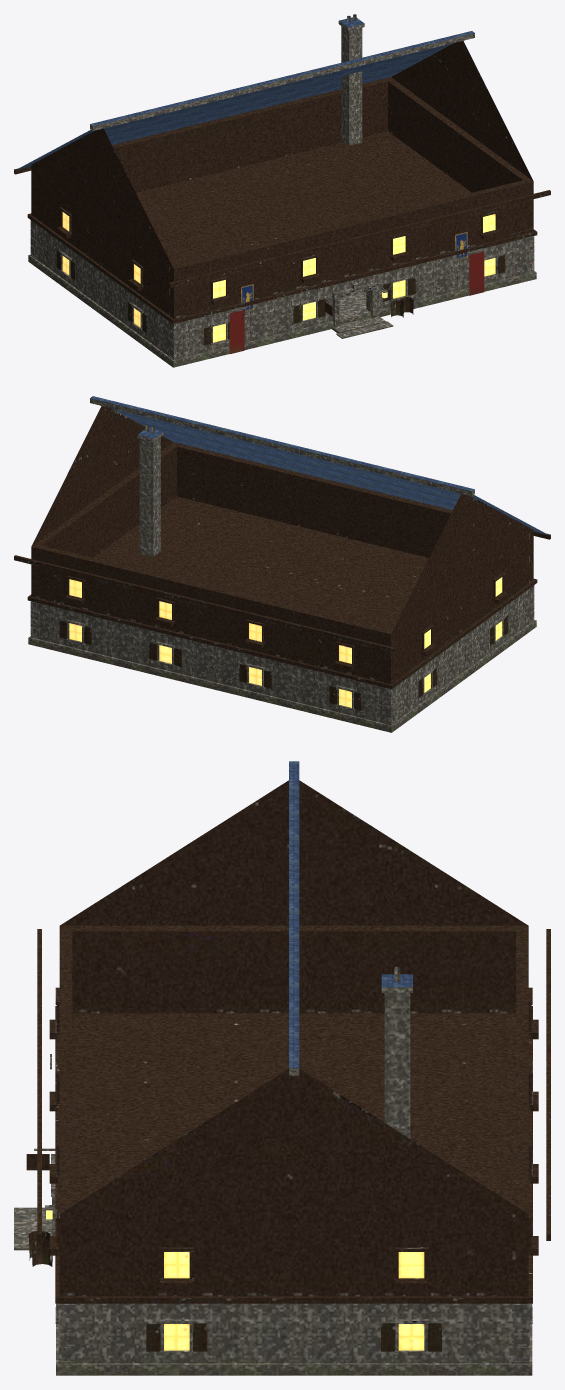
The model's file is bld_training_card_lod1.glb.
3 renders of one model, top to bottom at view 1: azimuth 30°, elevation 25°; view 2: azimuth 150°, elevation 25°; view 3: azimuth 270°, elevation 25°, orthographic. The views are drawn at different scales.
Parts seen in each view (by area): view 1: training_card; view 2: training_card; view 3: training_card.
Part boxes in pixels (box(x1,y1,x2,y2)): training_card: box(14, 14, 550, 367); training_card: box(14, 396, 550, 732); training_card: box(14, 761, 550, 1375).
Bounding box in the file's own units: 43.35 × 22.43 × 32.1.
1 material, 1 textured.
